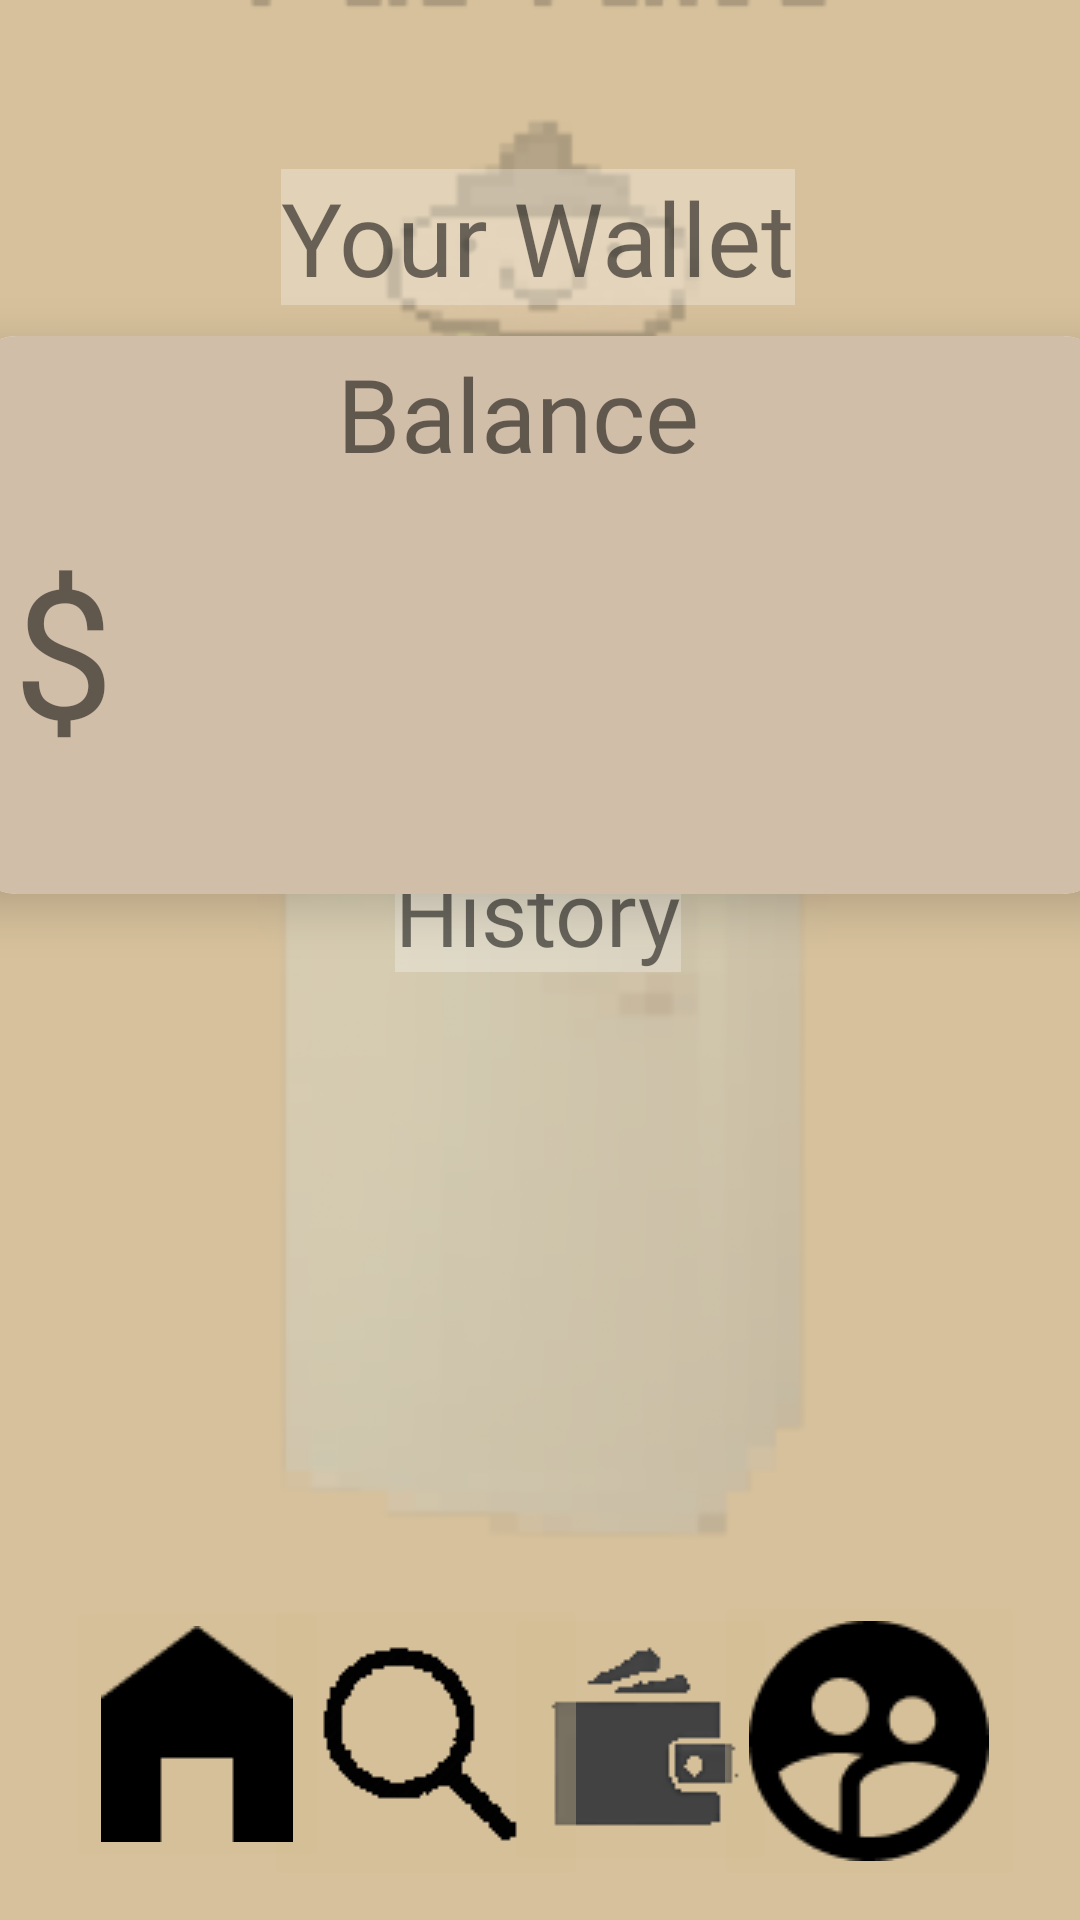

Icon click points for this 1080x1920 phone screenshot, format (x,y):
homepage: (197,1734)
wallet: (645,1736)
